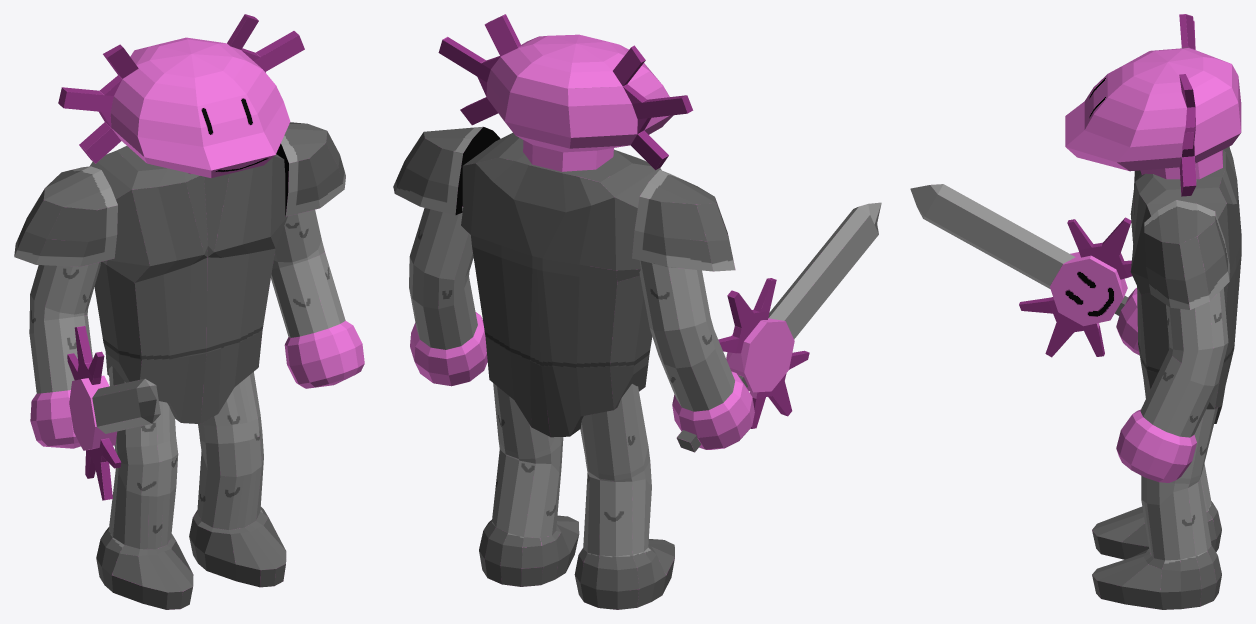
The model's file is axolotl.obj.
The picture shows the model from 3 angles, left to right: view 1: azimuth 30°, elevation 25°; view 2: azimuth 150°, elevation 25°; view 3: azimuth 270°, elevation 25°; orthographic projection. The views are drawn at different scales.
Parts seen in each view (by area): view 1: torso, leg, head, arm, pauldron, sword; view 2: torso, leg, arm, head, pauldron, sword; view 3: head, leg, sword, arm, torso, pauldron.
Part boxes in pixels (x1=…): torso: x1=90, y1=146, x2=287, y2=423; leg: x1=96, y1=365, x2=286, y2=609; head: x1=58, y1=14, x2=304, y2=178; arm: x1=29, y1=209, x2=364, y2=448; pauldron: x1=14, y1=122, x2=345, y2=266; sword: x1=67, y1=326, x2=160, y2=500; torso: x1=461, y1=133, x2=661, y2=437; leg: x1=479, y1=383, x2=674, y2=609; arm: x1=409, y1=206, x2=754, y2=449; head: x1=438, y1=14, x2=693, y2=171; pauldron: x1=393, y1=126, x2=735, y2=271; sword: x1=676, y1=202, x2=881, y2=452; head: x1=1065, y1=14, x2=1241, y2=196; leg: x1=1092, y1=408, x2=1221, y2=609; sword: x1=910, y1=184, x2=1132, y2=357; arm: x1=1116, y1=288, x2=1228, y2=482; torso: x1=1130, y1=146, x2=1241, y2=423; pauldron: x1=1144, y1=200, x2=1229, y2=309.
Size of the model in its own units: 0.6983 by 1.06 by 0.6019.
1 material, 1 textured.
